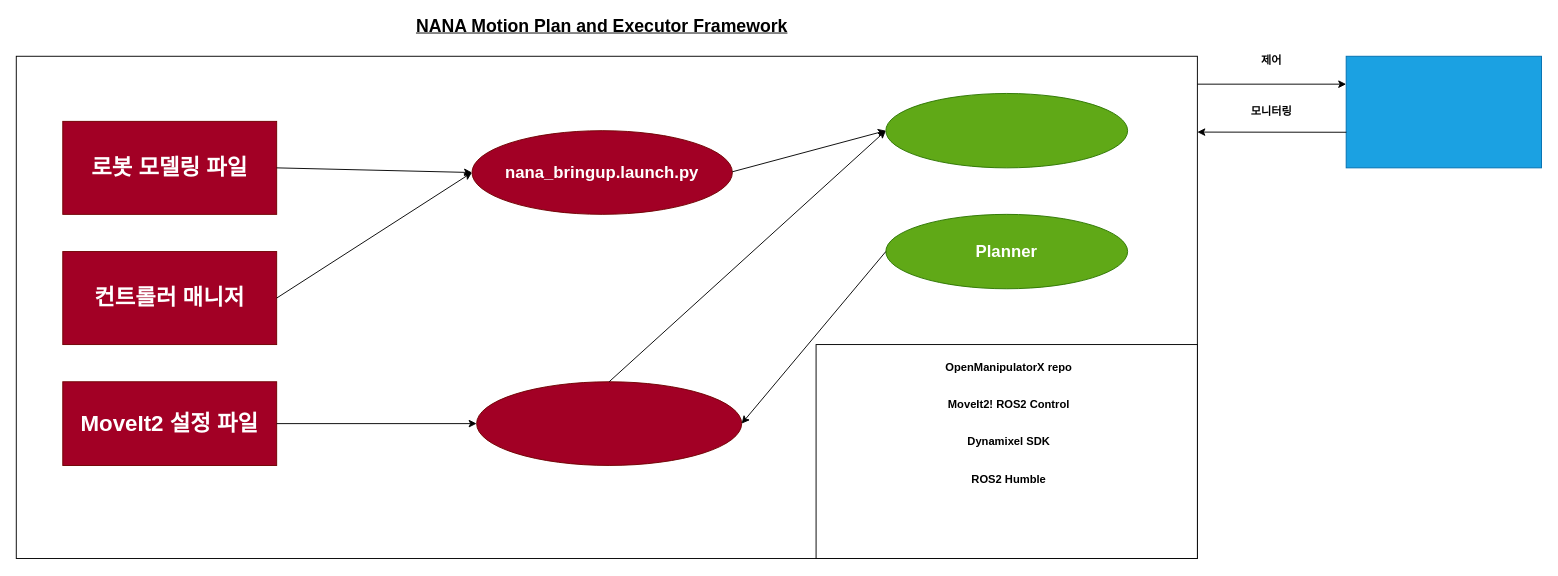
The diagram is 1558 pixels wide and 576 high, and some of its shapes have lost their labels. Here are the shapes that lost their labels. From the top down, the box of each, then its label:
(885, 93, 1128, 168): Controller
(1345, 55, 1541, 168): 로봇
(476, 381, 742, 465): nana_moveit_core.launch.py
